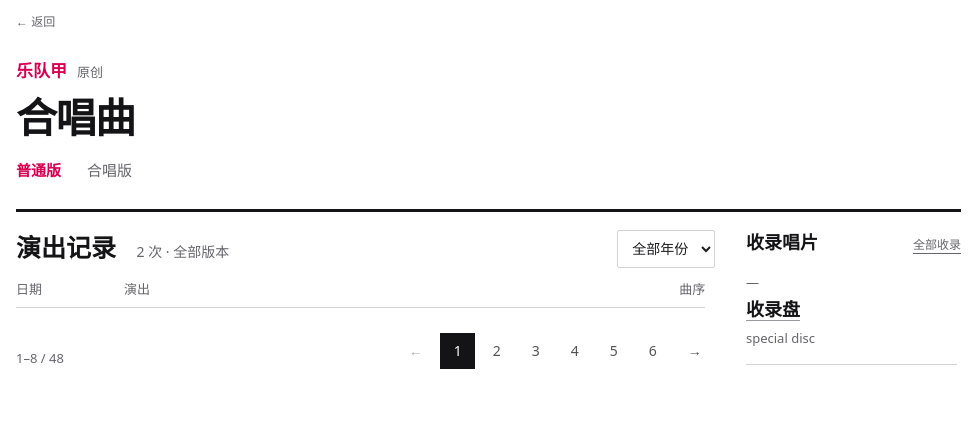
Scenario: detail pagination exposes every page for a short result set
Click the button named "第 4 页".
click(575, 351)  # box top-left (557, 333), bottom-right (592, 369)
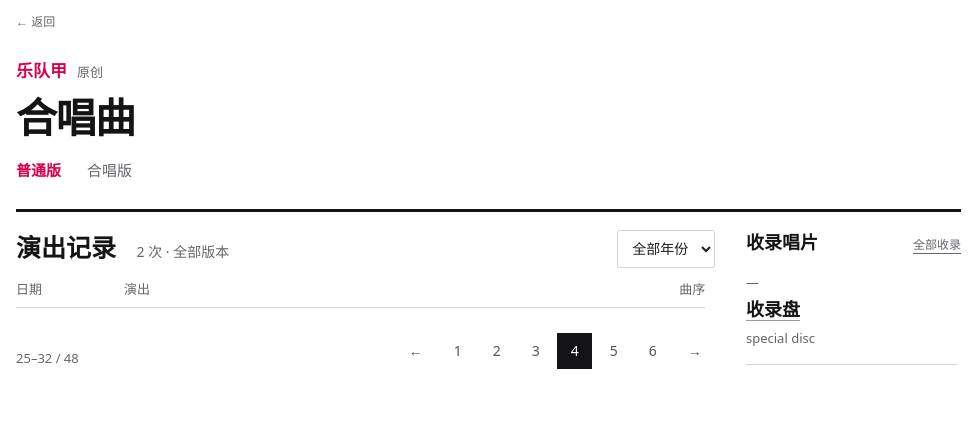
Select "2026 年" in the dropdown named "演出年份" at (666, 249), box top-left (617, 230), bottom-right (715, 268)
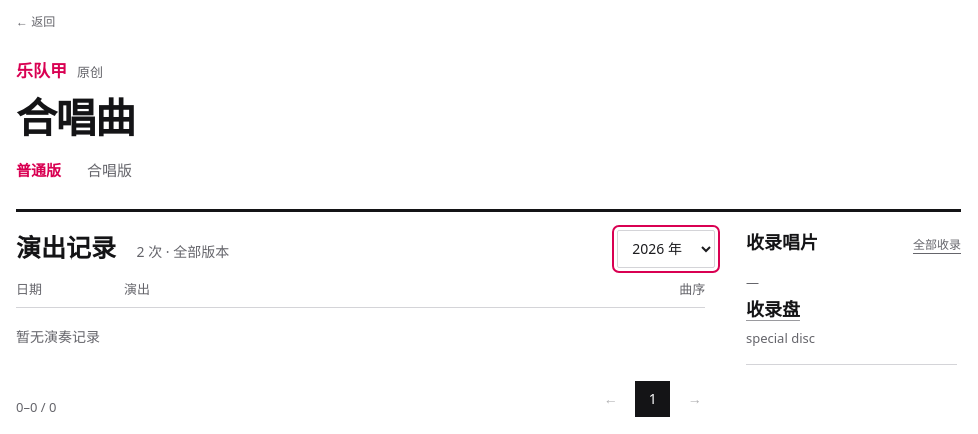
Expected: the text "暂无演奏记录" is shown, top-left (16, 327), bottom-right (100, 346)
